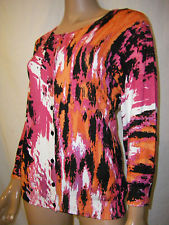C_blouse: (11, 8, 165, 221)
